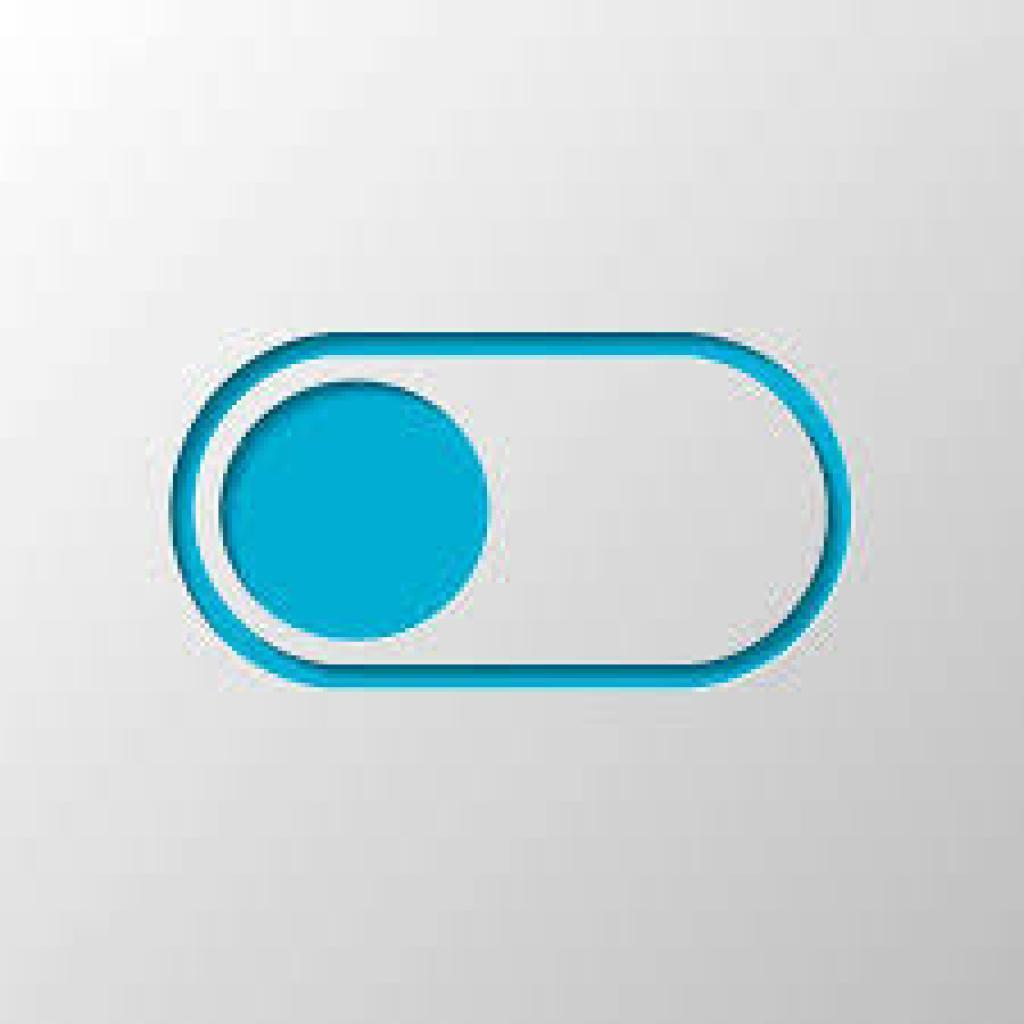switch: (162, 331, 859, 695)
